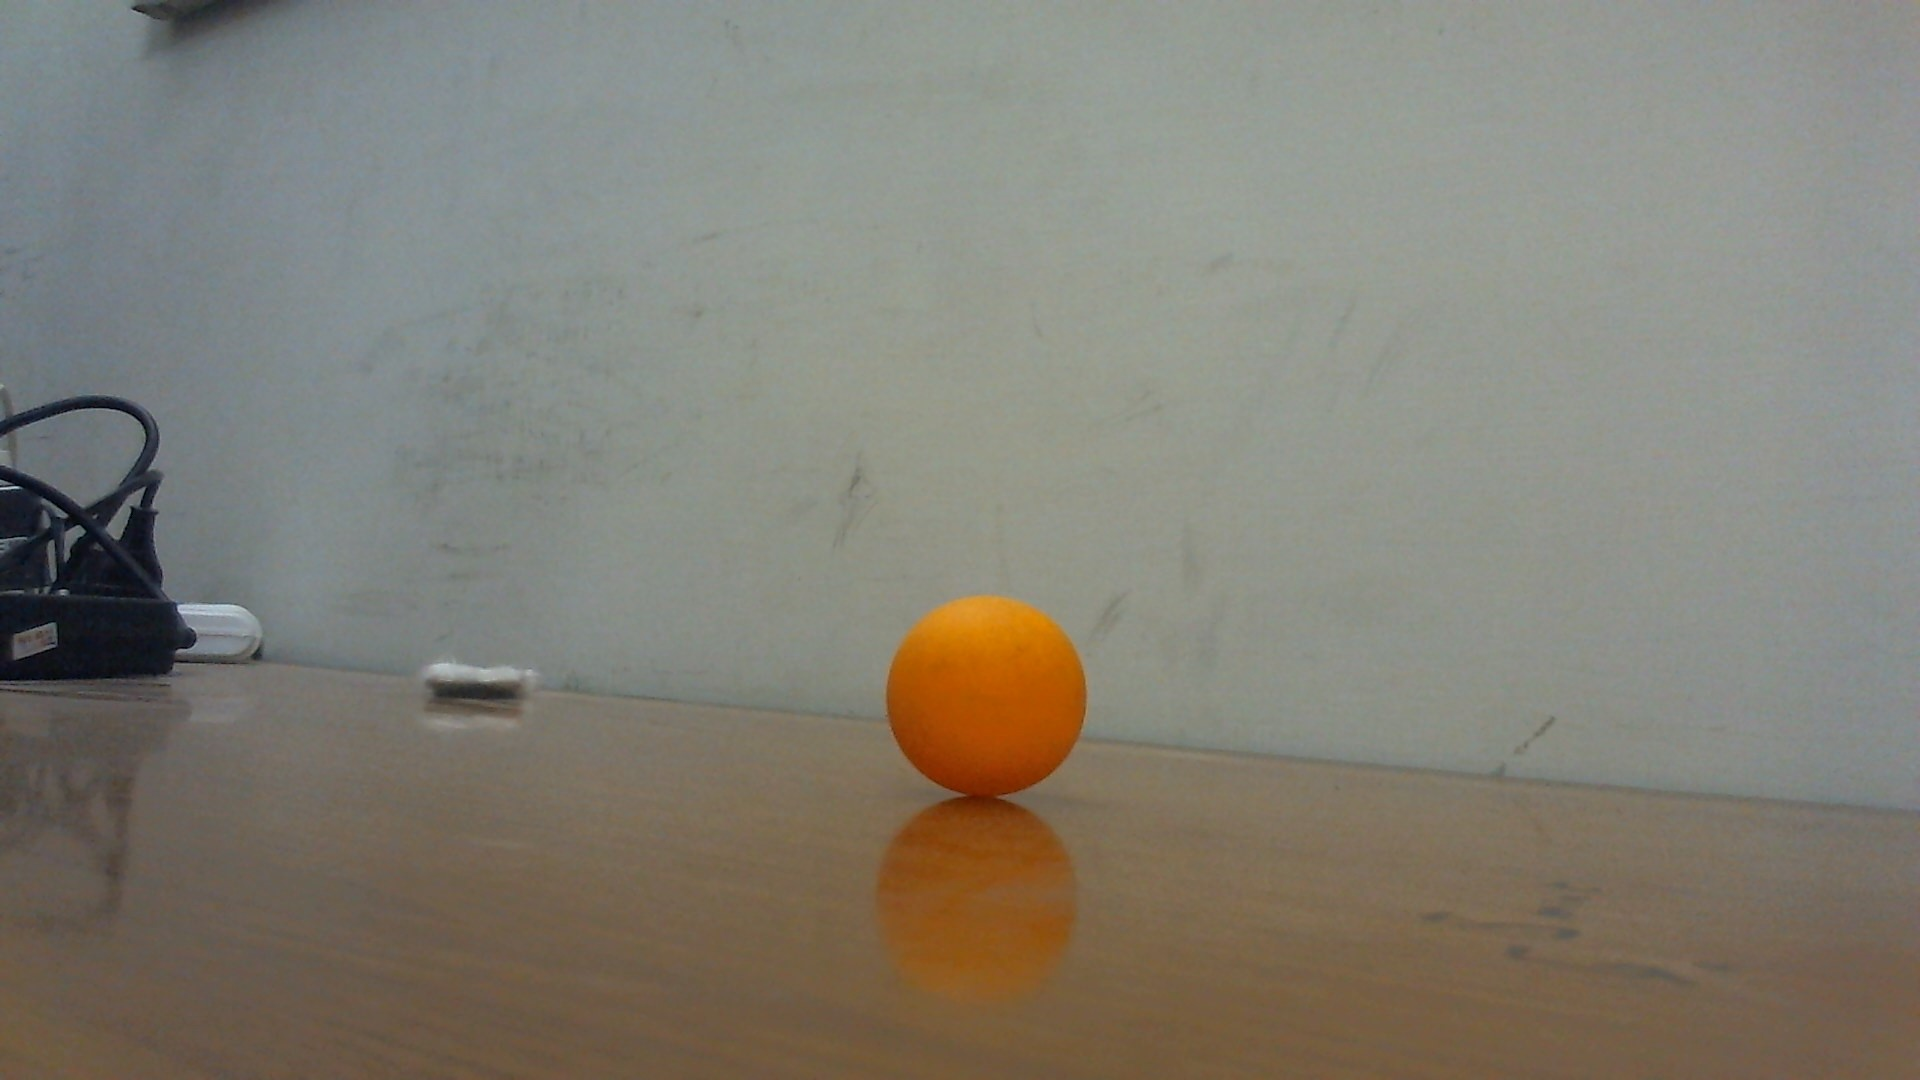ball: (885, 592, 1089, 798)
